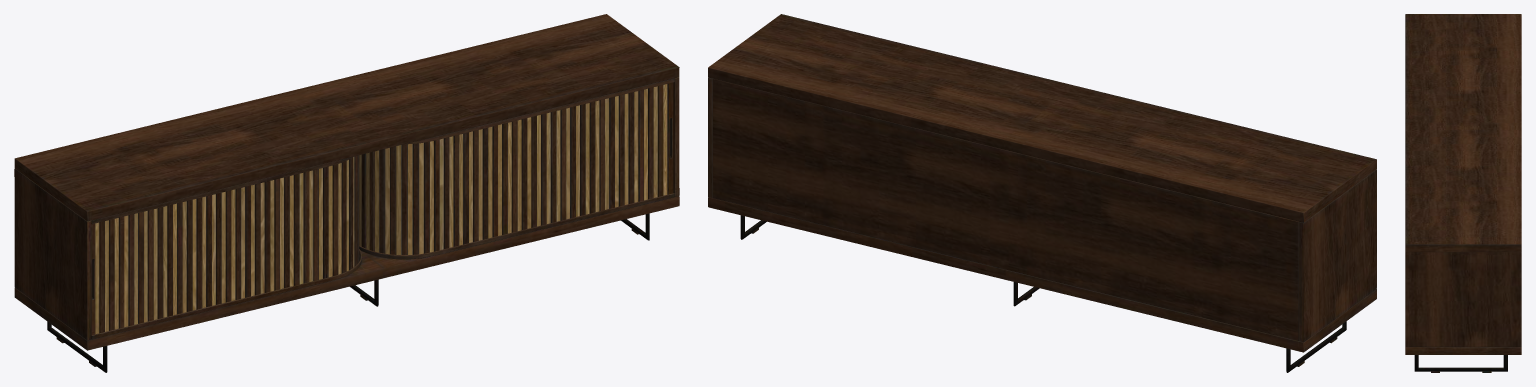
The model's file is meuble-temoin.glb.
3 renders of one model, left to right at view 1: azimuth 30°, elevation 25°; view 2: azimuth 150°, elevation 25°; view 3: azimuth 270°, elevation 25°, orthographic. The views are drawn at different scales.
Parts seen in each view (by area): view 1: modern_wooden_cabinet_body, modern_wooden_cabinet_door_l; view 2: modern_wooden_cabinet_body; view 3: modern_wooden_cabinet_body.
Part boxes in pixels (<box>): modern_wooden_cabinet_body: <box>14,14,679,372</box>; modern_wooden_cabinet_door_l: <box>91,82,673,334</box>; modern_wooden_cabinet_body: <box>708,14,1376,372</box>; modern_wooden_cabinet_body: <box>1405,14,1521,372</box>.
Bounding box in the file's own units: 2.44 × 0.6801 × 0.5201.
Materials: 1 (1 with a texture image).
